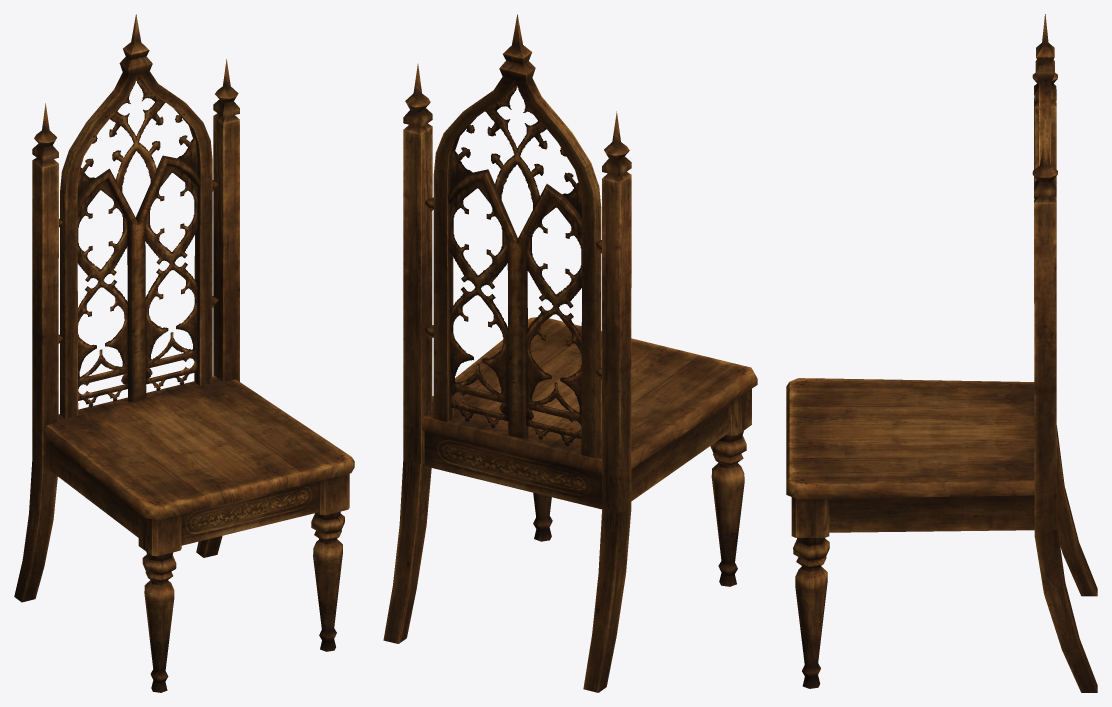
Rendered from HighChair2.dae.
The picture shows the model from 3 angles, left to right: view 1: azimuth 30°, elevation 25°; view 2: azimuth 150°, elevation 25°; view 3: azimuth 270°, elevation 25°; orthographic projection. The views are drawn at different scales.
Parts seen in each view (by area): view 1: HighChair2; view 2: HighChair2; view 3: HighChair2.
Boxes of the visible parts, <box> form: HighChair2: <box>14,14,354,692</box>; HighChair2: <box>383,14,757,692</box>; HighChair2: <box>786,14,1097,692</box>.
Bounding box in the file's own units: 0.6431 × 1.69 × 0.7621.
1 material, 1 textured.
